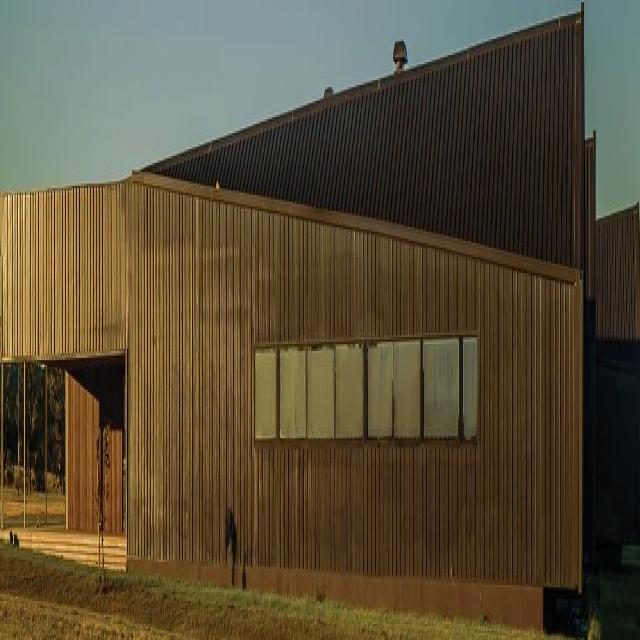wall: (2, 0, 640, 638)
windows: (256, 346, 480, 451), (4, 362, 66, 528)
